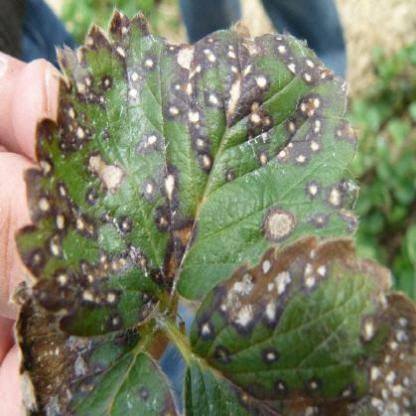Strawberry_Leaf_Spot: (12, 6, 361, 338), (182, 237, 397, 415), (6, 280, 180, 416)
